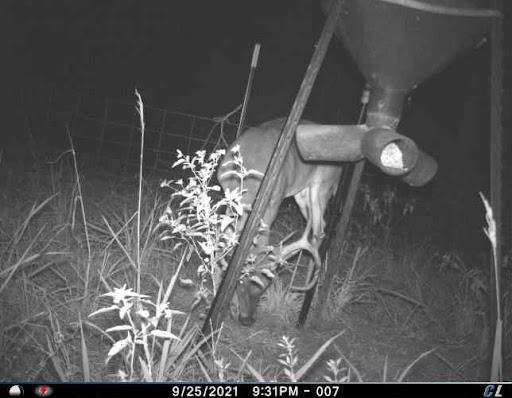Deer: (206, 107, 353, 327)
